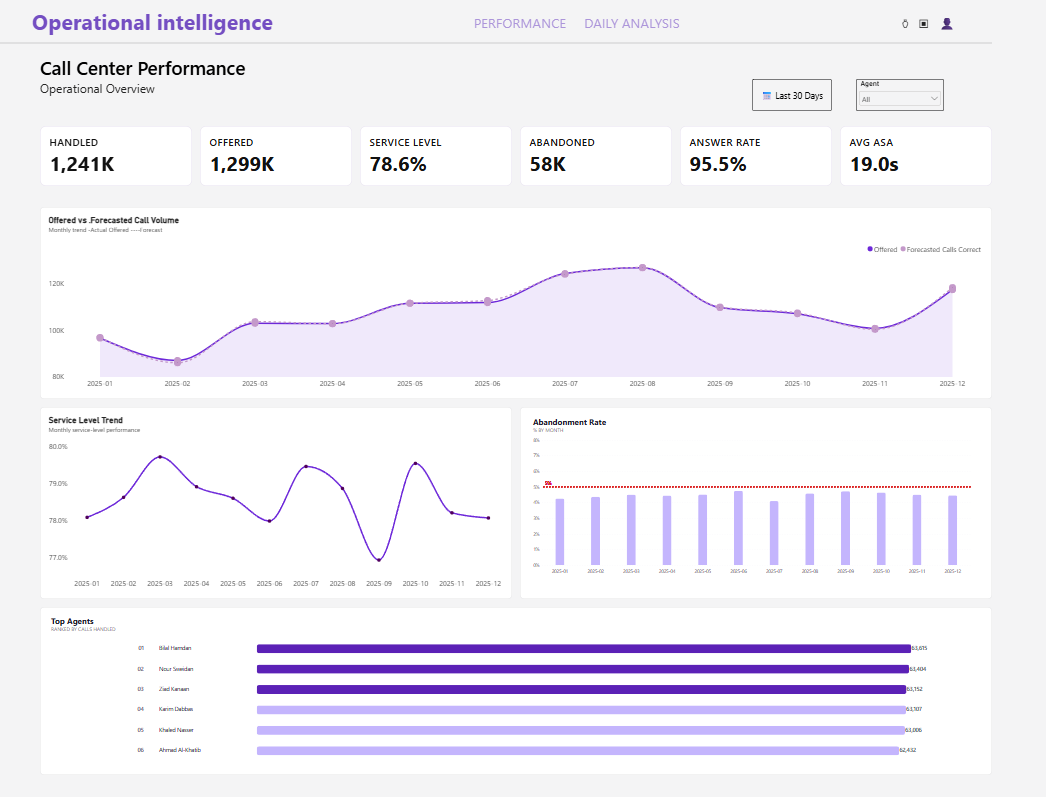

The dashboard page shown, as its layout file describes it:
{"tool":"powerbi","page":{"name":"PERFORMANCE","canvas":[2100,1600],"ordinal":0},"visuals":[{"type":"htmlContent443BE3AD55E043BF878BED274D3A6855","fields":{"content":["Call_Center_Data.Offered HTML Card"]},"box":[384,240,336,192],"z":0},{"type":"htmlContent443BE3AD55E043BF878BED274D3A6855","fields":{"content":["Call_Center_Data.Handled HTML Card"]},"box":[64,240,336,192],"z":1000},{"type":"htmlContent443BE3AD55E043BF878BED274D3A6855","fields":{"content":["Call_Center_Data.Service Level HTML Card"]},"box":[704,240,336,192],"z":2000},{"type":"htmlContent443BE3AD55E043BF878BED274D3A6855","fields":{"content":["Call_Center_Data.Abandoned HTML Card"]},"box":[1024,240,336,192],"z":3000},{"type":"htmlContent443BE3AD55E043BF878BED274D3A6855","fields":{"content":["Call_Center_Data.Answer Rate HTML Card"]},"box":[1344,240,336,192],"z":4000},{"type":"htmlContent443BE3AD55E043BF878BED274D3A6855","fields":{"content":["Call_Center_Data.Avg ASA HTML Card"]},"box":[1664,240,336,192],"z":5000},{"type":"shape","box":[0,80,1984,16],"z":6000},{"type":"textbox","box":[64,16,528,80],"z":7000},{"type":"textbox","box":[80,112,528,128],"z":8000},{"type":"lineChart","title":"Offered vs .Forecasted Call Volume","fields":{"Category":["DateTable.Year Month"],"Y":["Call_Center_Data.Offered","Call_Center_Data.Forecasted Calls Correct"]},"box":[80,416,1904,384],"z":9000},{"type":"lineChart","title":"Service Level Trend","fields":{"Category":["DateTable.Year Month"],"Y":["Call_Center_Data.Service Level %"]},"box":[80,816,944,384],"z":10000},{"type":"deneb7E15AEF80B9E4D4F8E12924291ECE89A","title":"Offered vs .Forecasted Call Volume","fields":{"dataset":["DateTable.Year Month","Call_Center_Data.Abandonment Rate %","Call_Center_Data.Abandoned","Call_Center_Data.Offered","Call_Center_Data.Abandonment Rate Previous Month","Call_Center_Data.Abandonment Rate MoM %"]},"box":[1040,816,944,384],"z":11000},{"type":"deneb7E15AEF80B9E4D4F8E12924291ECE89A","fields":{"dataset":["Call_Center_Data.agent_name","Call_Center_Data.Handled","Call_Center_Data.Agent Rank"]},"box":[80,1216,1904,336],"z":12000},{"type":"slicer","title":"Agent","fields":{"Values":["Call_Center_Data.agent_name"]},"box":[1712,160,176,64],"z":14000},{"type":"actionButton","box":[1504,160,160,64],"z":15000},{"type":"textbox","box":[1712,32,240,48],"z":17000},{"type":"actionButton","box":[880,16,320,64],"z":18000},{"type":"actionButton","box":[1104,16,320,64],"z":19000}]}

Visuals, with their boxes in screenshot pixels (x1, y1, x2, y2), scaled from the page's 2100x1600 canvas onto the 1046x797 screenshot:
htmlContent443BE3AD55E043BF878BED274D3A6855 - Call_Center_Data.Offered HTML Card: bbox=(191, 120, 359, 215)
htmlContent443BE3AD55E043BF878BED274D3A6855 - Call_Center_Data.Handled HTML Card: bbox=(32, 120, 199, 215)
htmlContent443BE3AD55E043BF878BED274D3A6855 - Call_Center_Data.Service Level HTML Card: bbox=(351, 120, 518, 215)
htmlContent443BE3AD55E043BF878BED274D3A6855 - Call_Center_Data.Abandoned HTML Card: bbox=(510, 120, 677, 215)
htmlContent443BE3AD55E043BF878BED274D3A6855 - Call_Center_Data.Answer Rate HTML Card: bbox=(669, 120, 837, 215)
htmlContent443BE3AD55E043BF878BED274D3A6855 - Call_Center_Data.Avg ASA HTML Card: bbox=(829, 120, 996, 215)
shape: bbox=(0, 40, 988, 48)
textbox: bbox=(32, 8, 295, 48)
textbox: bbox=(40, 56, 303, 120)
"Offered vs .Forecasted Call Volume" lineChart: bbox=(40, 207, 988, 398)
"Service Level Trend" lineChart: bbox=(40, 406, 510, 598)
"Offered vs .Forecasted Call Volume" deneb7E15AEF80B9E4D4F8E12924291ECE89A: bbox=(518, 406, 988, 598)
deneb7E15AEF80B9E4D4F8E12924291ECE89A - Call_Center_Data.agent_name x Call_Center_Data.Handled: bbox=(40, 606, 988, 773)
"Agent" slicer: bbox=(853, 80, 940, 112)
actionButton: bbox=(749, 80, 829, 112)
textbox: bbox=(853, 16, 972, 40)
actionButton: bbox=(438, 8, 598, 40)
actionButton: bbox=(550, 8, 709, 40)
